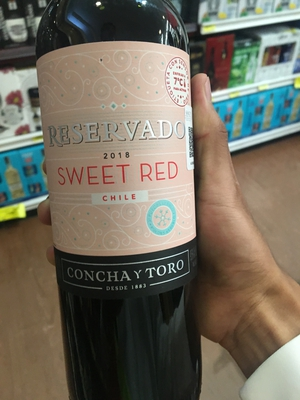reservado sweet red: (35, 1, 212, 395)
